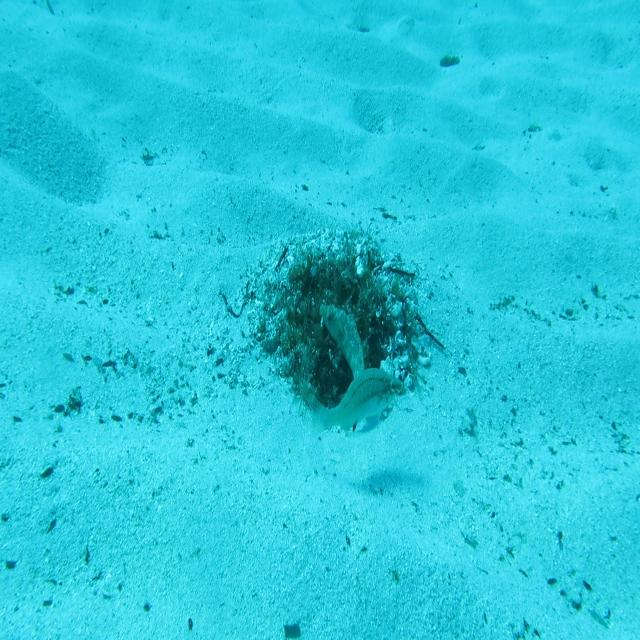LF: (317, 301, 372, 439)
core_nest: (308, 272, 359, 302)
female: (300, 365, 404, 444)
nest: (245, 209, 443, 440)
vegetation: (439, 51, 462, 70)
